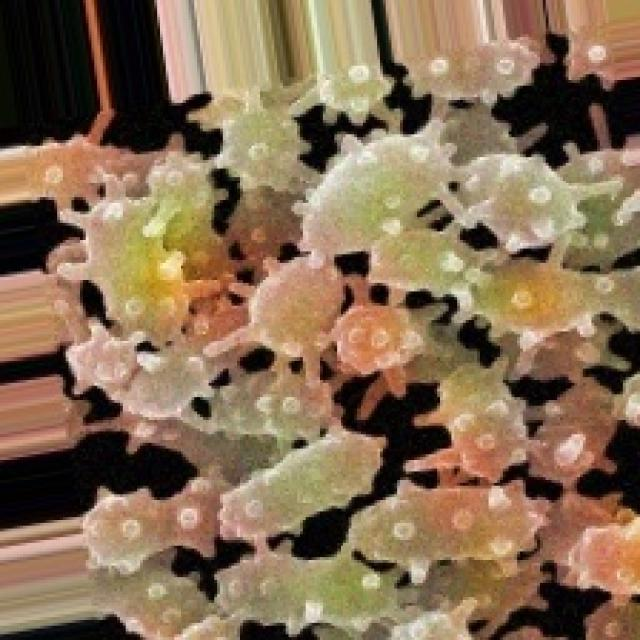Rod_bacteria: (40, 32, 637, 637)
